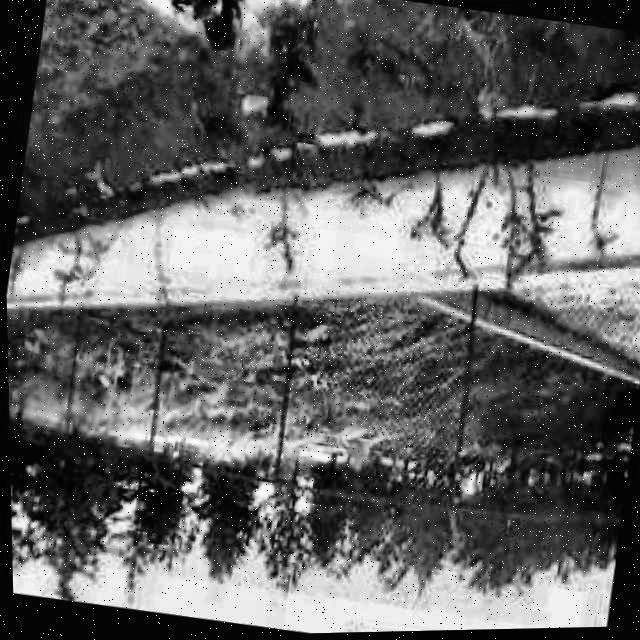Fire: (163, 0, 284, 73)
